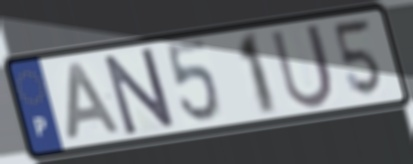1: (236, 29, 283, 120)
5: (163, 36, 224, 128), (328, 19, 386, 101)
A: (65, 60, 124, 143)
N: (101, 44, 178, 139)
U: (267, 19, 337, 111)
